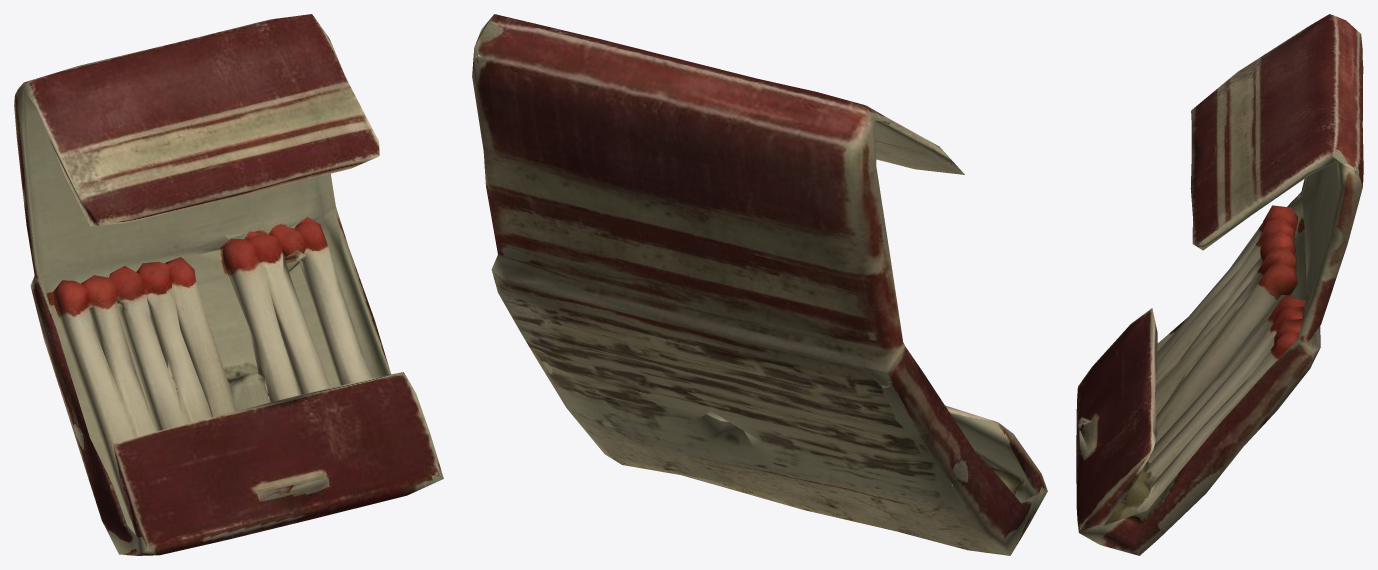
File: matchbook.glb
3 views of the same model, side by side, from view 1: azimuth 30°, elevation 25°; view 2: azimuth 150°, elevation 25°; view 3: azimuth 270°, elevation 25° (orthographic). The views are drawn at different scales.
Visible parts, largest first — view 1: Mesh_0; view 2: Mesh_0; view 3: Mesh_0.
Boxes of the visible parts, left/top/right/bottom form: Mesh_0: left=14, top=14, right=443, bottom=555; Mesh_0: left=472, top=14, right=1047, bottom=555; Mesh_0: left=1076, top=14, right=1363, bottom=555.
Size of the model in its own units: 0.7918 by 1 by 0.6421.
Materials: 1 (1 with a texture image).
